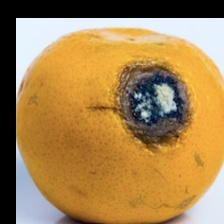orange: (49, 55, 186, 190)
